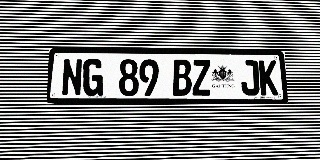8: (119, 59, 139, 96)
9: (139, 59, 159, 96)
B: (172, 59, 192, 96)
G: (82, 59, 103, 96)
J: (240, 60, 260, 95)
K: (259, 60, 278, 95)
N: (61, 58, 83, 96)
Z: (192, 60, 211, 96)
